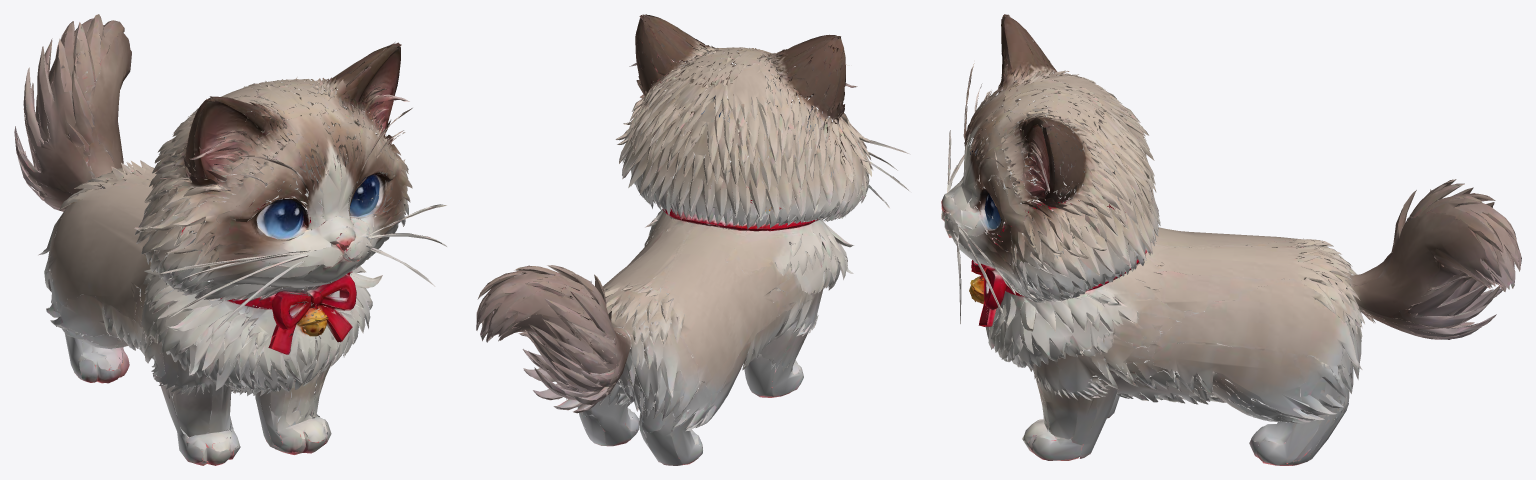
Rendered from pet-cat.glb.
3 renders of one model, left to right at view 1: azimuth 30°, elevation 25°; view 2: azimuth 150°, elevation 25°; view 3: azimuth 270°, elevation 25°, orthographic. The views are drawn at different scales.
Visible parts, largest first — view 1: pet-cat; view 2: pet-cat; view 3: pet-cat.
Boxes of the visible parts, x1=… form: pet-cat: x1=14, y1=14, x2=446, y2=465; pet-cat: x1=476, y1=14, x2=910, y2=465; pet-cat: x1=941, y1=14, x2=1521, y2=465.
Bounding box in the file's own units: 0.6254 × 0.7743 × 1.05.
Materials: 1 (1 with a texture image).
